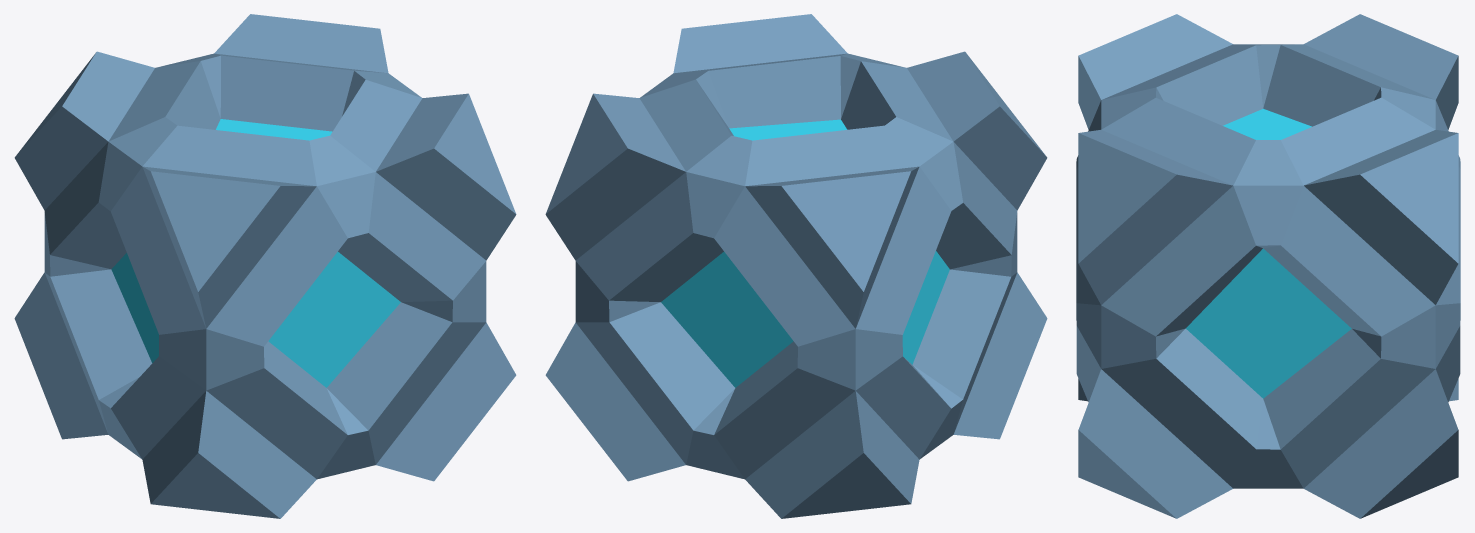
File: Drop3.fbx
3 renders of one model, left to right at view 1: azimuth 30°, elevation 25°; view 2: azimuth 150°, elevation 25°; view 3: azimuth 270°, elevation 25°, orthographic. The views are drawn at different scales.
Parts seen in each view (by area): view 1: Drop Rare; view 2: Drop Rare; view 3: Drop Rare.
Part boxes in pixels (left/top/right/bottom): Drop Rare: left=14, top=14, right=516, bottom=518; Drop Rare: left=545, top=14, right=1047, bottom=518; Drop Rare: left=1076, top=14, right=1460, bottom=518.
Bounding box in the file's own units: 183 × 183 × 183.
1 material, 1 textured.
